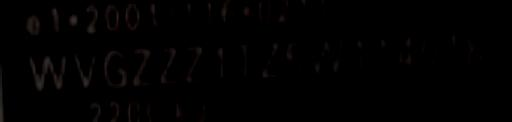letter: (24, 47, 70, 93), (303, 32, 347, 78), (98, 43, 130, 92), (154, 40, 184, 90), (68, 47, 100, 93), (182, 38, 210, 90), (230, 38, 258, 88), (259, 35, 285, 85), (417, 27, 443, 76), (282, 35, 306, 85), (208, 38, 232, 88), (461, 26, 487, 72), (128, 44, 154, 90), (393, 30, 419, 73), (443, 26, 463, 72), (372, 29, 392, 75), (348, 32, 368, 78)
